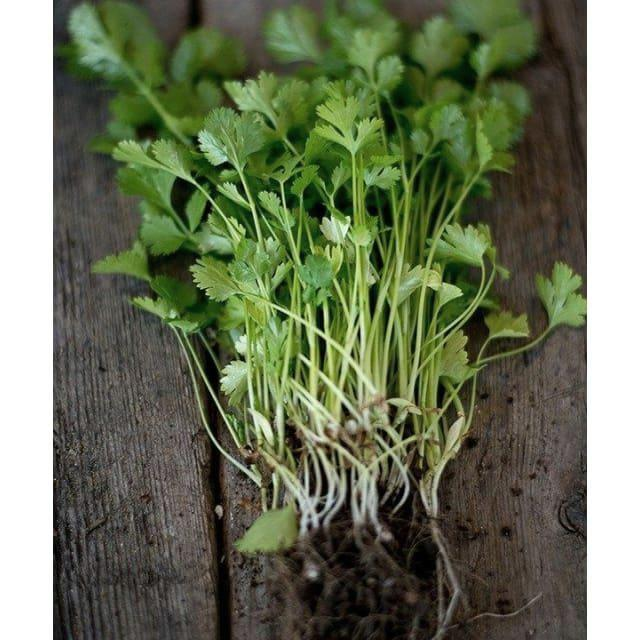cilantro: (155, 0, 529, 445)
